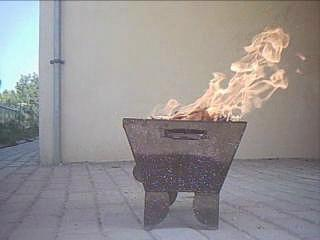fire: (174, 32, 293, 129)
